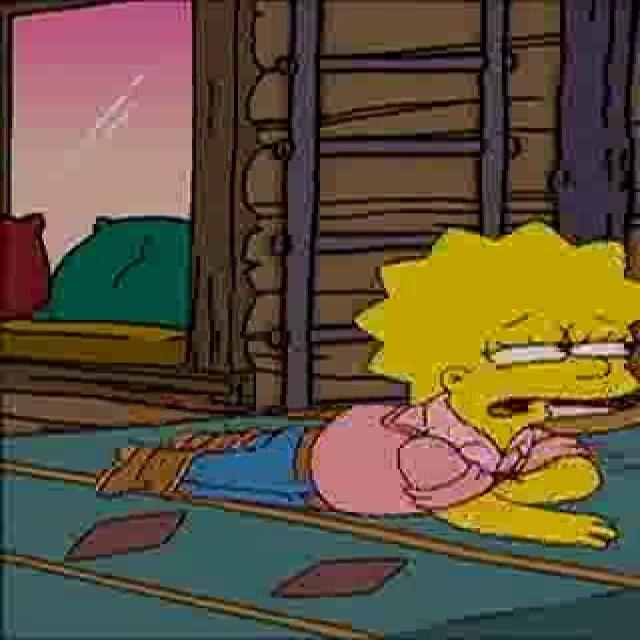Lisa Simpson: (356, 216, 640, 443)
